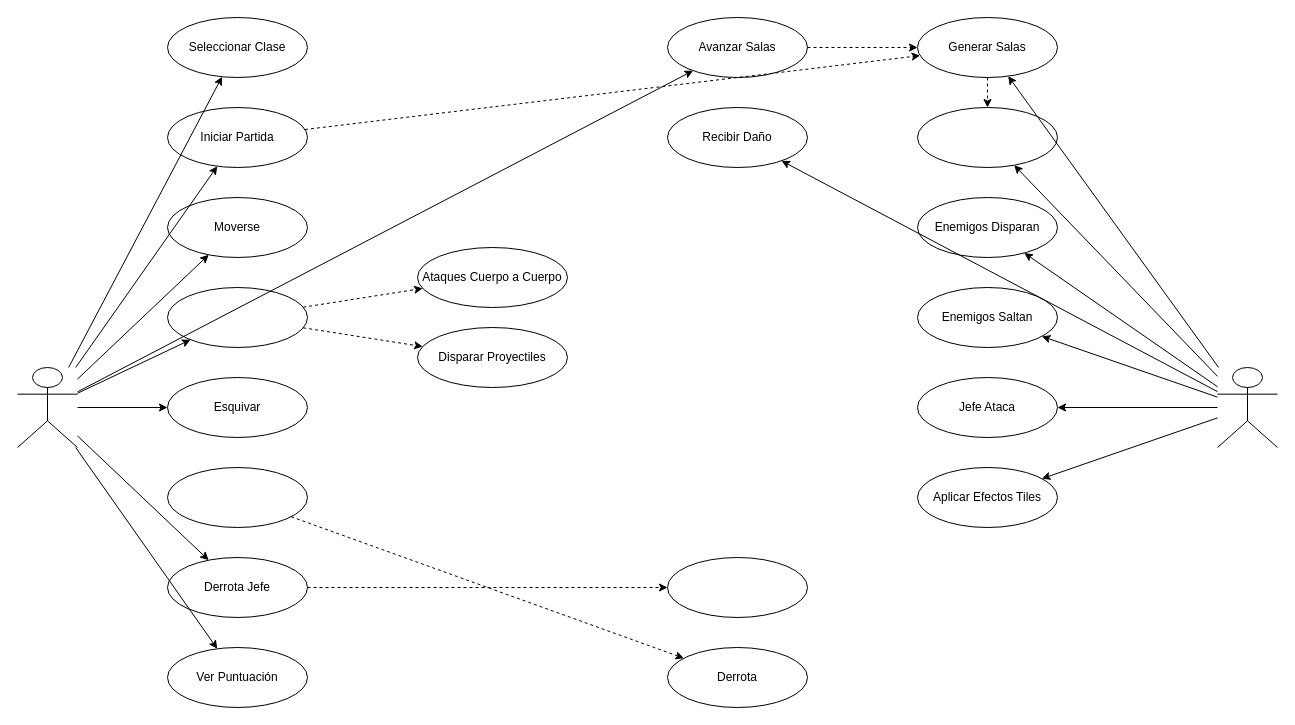
The diagram is 1295 pixels wide and 725 high, and some of its shapes have lost their labels. Here are the shapes that lost their labels. From the top down, the box of each, then its label:
(916, 106, 1058, 168): Enemigos Persiguen
(166, 286, 308, 348): Atacar Enemigo
(16, 366, 78, 448): Jugador
(1216, 366, 1278, 448): Sistema
(166, 466, 308, 528): Morir
(666, 556, 808, 618): Victoria
